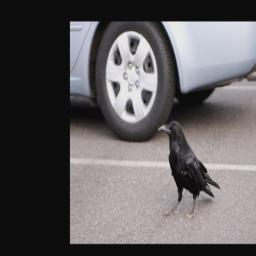Crow: (158, 118, 222, 218)
